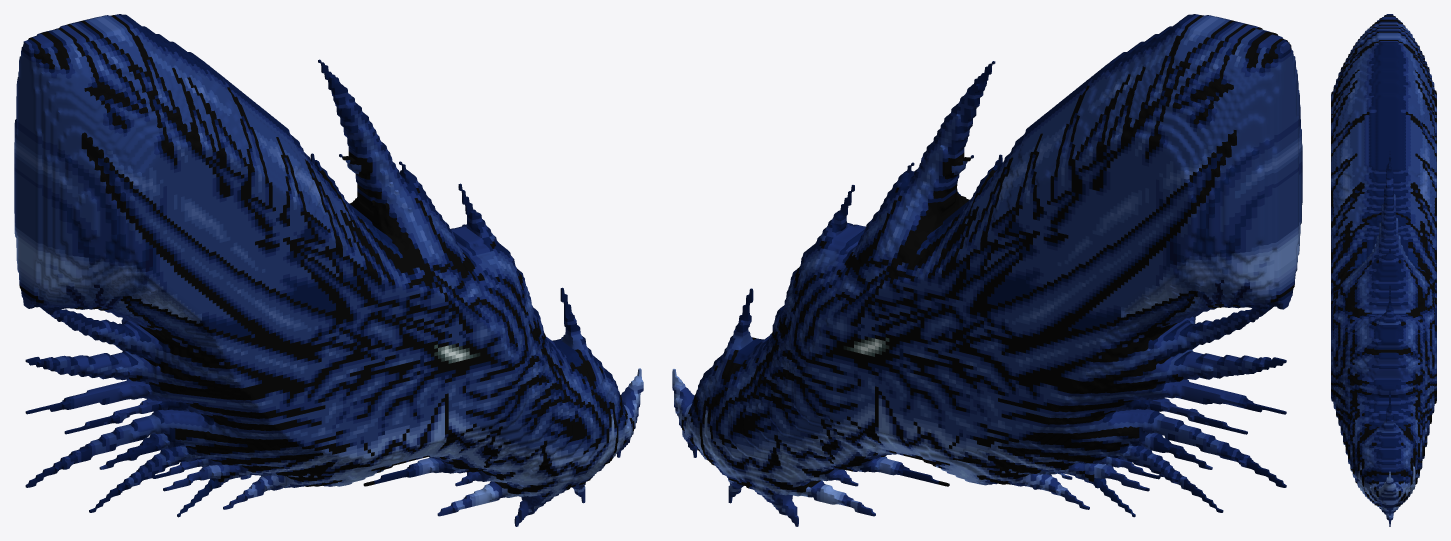
The model's file is Fight_759_2_01.obj.
3 renders of one model, left to right at view 1: azimuth 30°, elevation 25°; view 2: azimuth 150°, elevation 25°; view 3: azimuth 270°, elevation 25°, orthographic. The views are drawn at different scales.
Bounding box in the file's own units: 17.5 × 16.38 × 4.4.
1 material, 1 textured.
